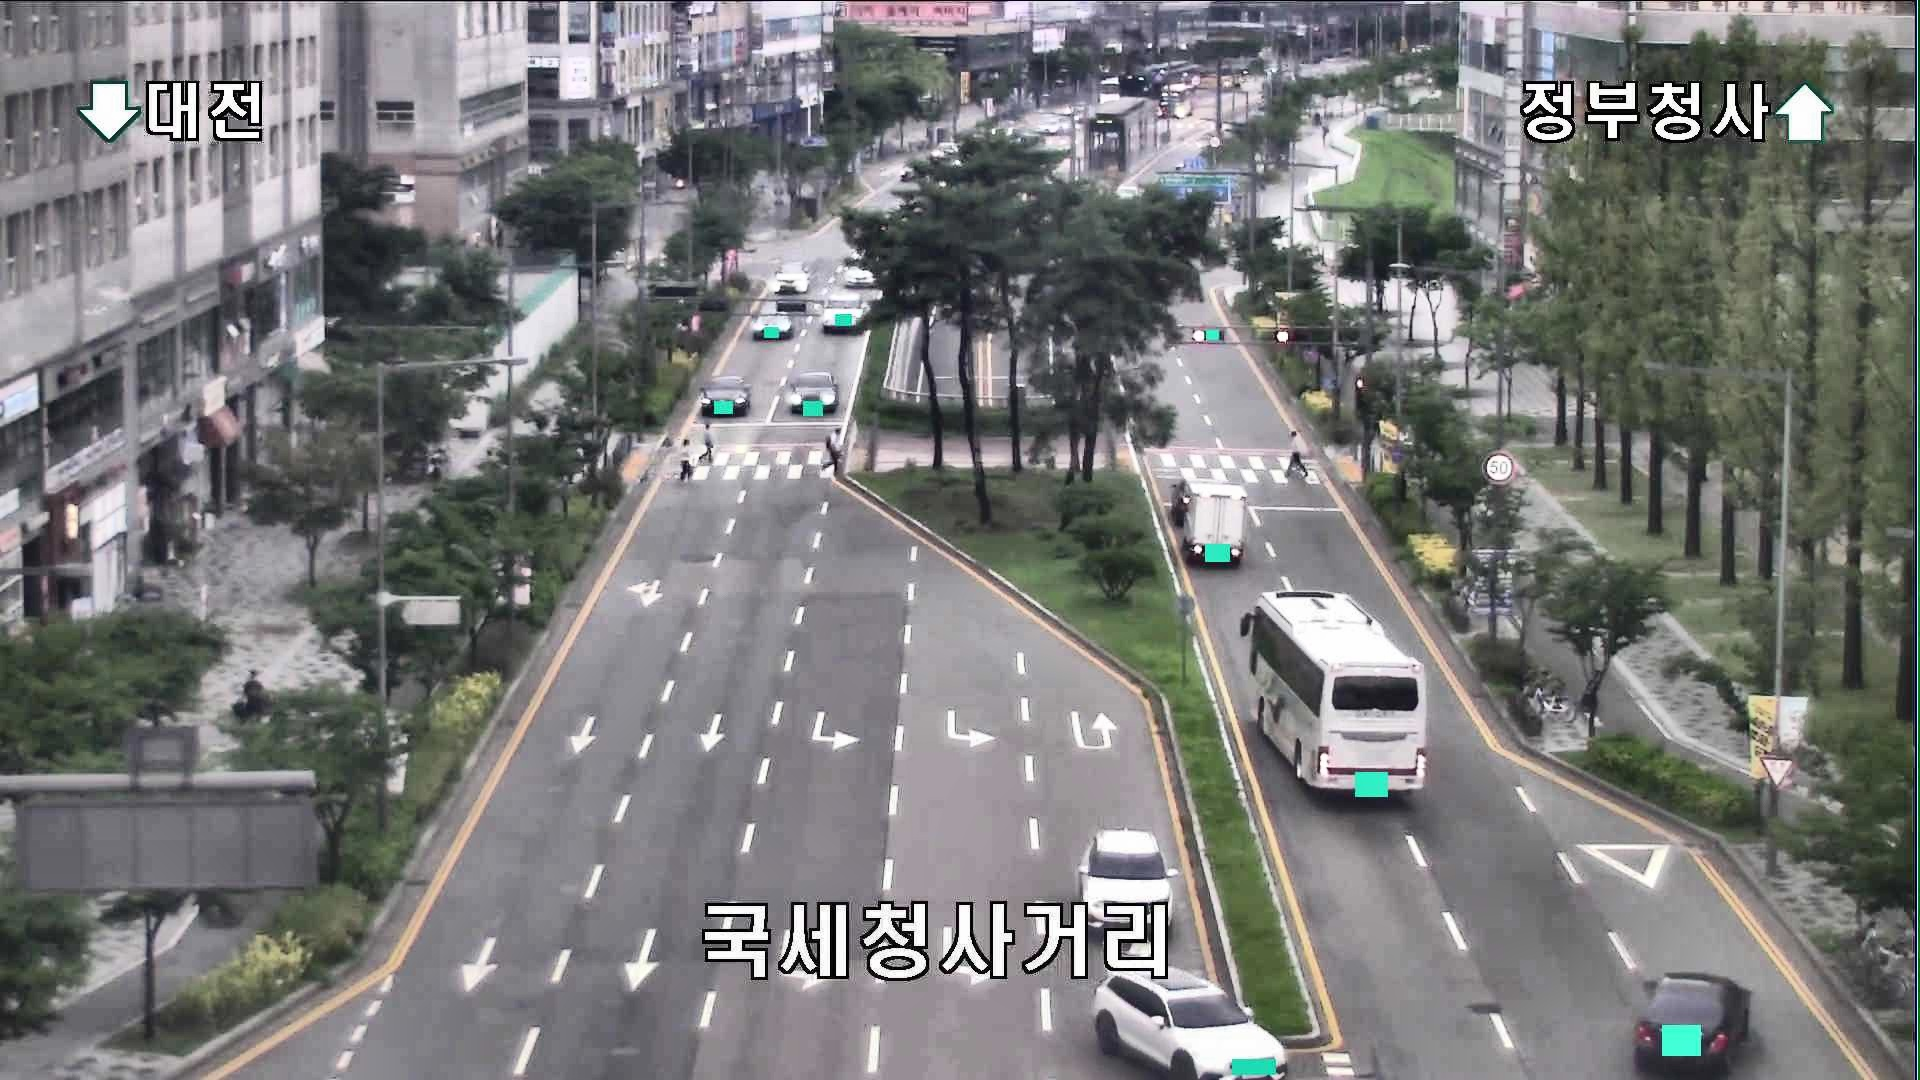crosswalk: (1282, 430, 1311, 479), (822, 426, 845, 473), (694, 422, 715, 463), (679, 438, 694, 479)
sidewalk: (237, 669, 269, 723)
